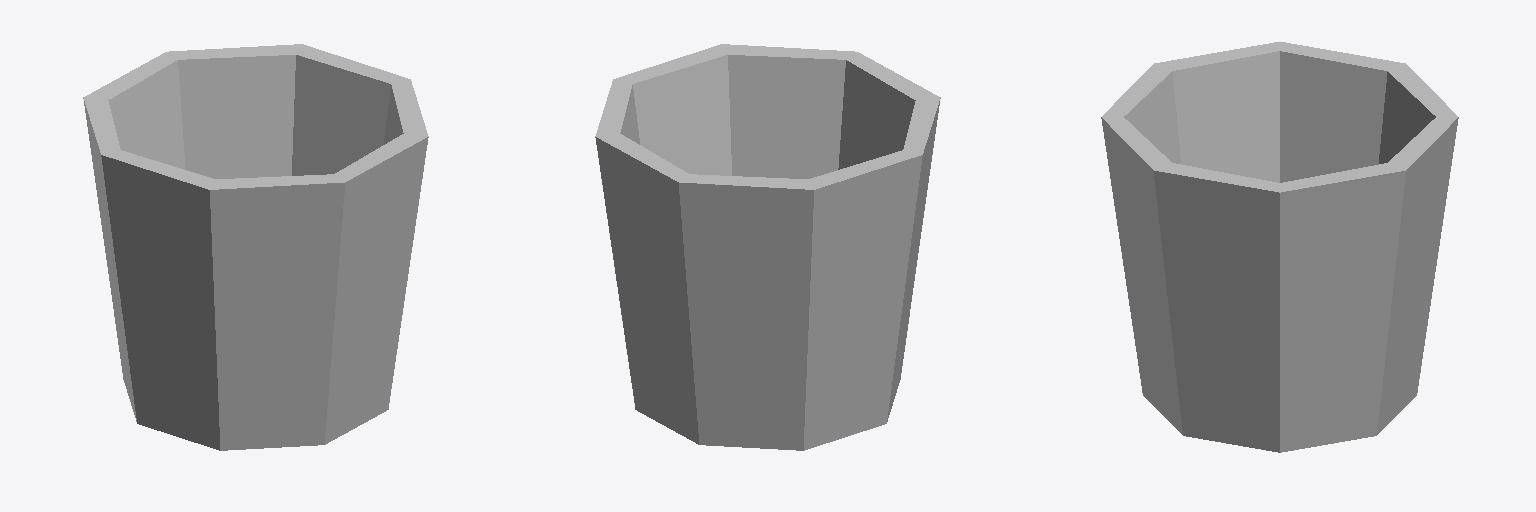
File: bucket.obj
3 renders of one model, left to right at view 1: azimuth 30°, elevation 25°; view 2: azimuth 150°, elevation 25°; view 3: azimuth 270°, elevation 25°, orthographic.
Visible parts, largest first — view 1: bucket_Cylinder.005; view 2: bucket_Cylinder.005; view 3: bucket_Cylinder.005.
Boxes of the visible parts, x1,y1,x2,y2 form: bucket_Cylinder.005: [83, 44, 428, 450]; bucket_Cylinder.005: [595, 44, 940, 450]; bucket_Cylinder.005: [1101, 42, 1458, 452].
Size of the model in its own units: 0.4138 by 0.3549 by 0.4138.